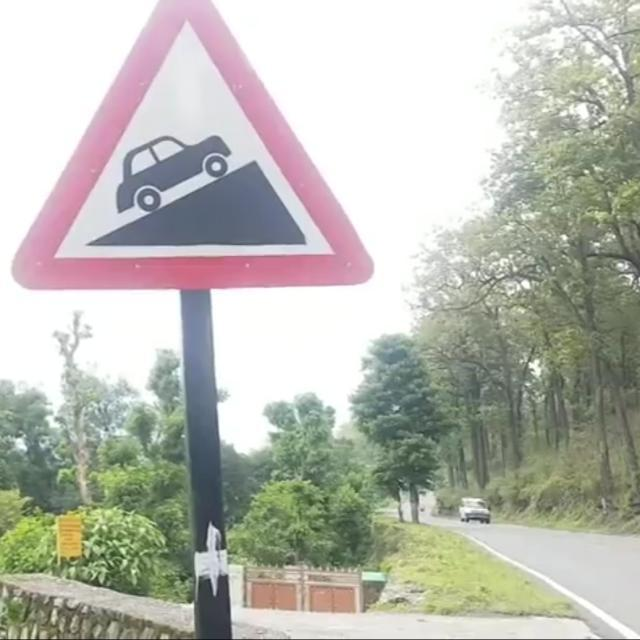steep ascent: (16, 21, 375, 288)
